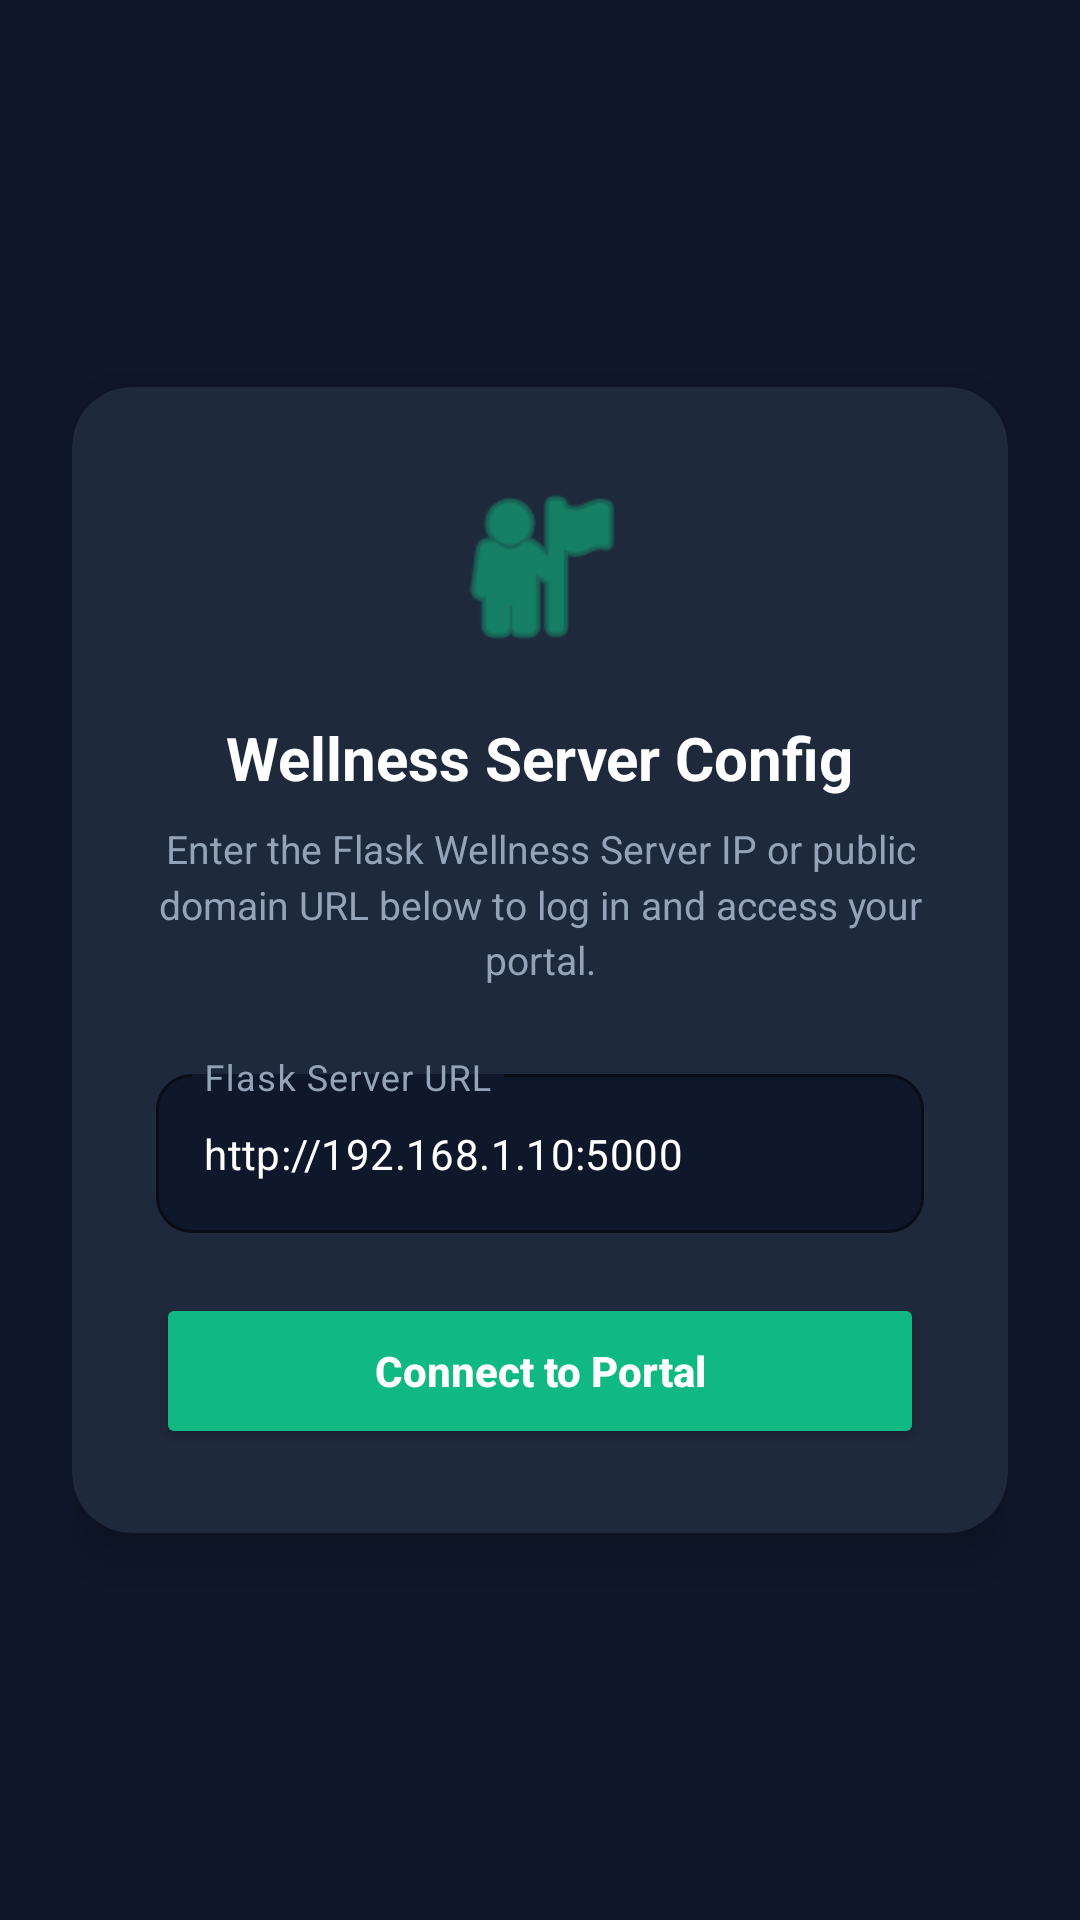

Named icons in this screenshot (1080px x 1920px) and their centers, (x,y):
myplaces: (542,567)
